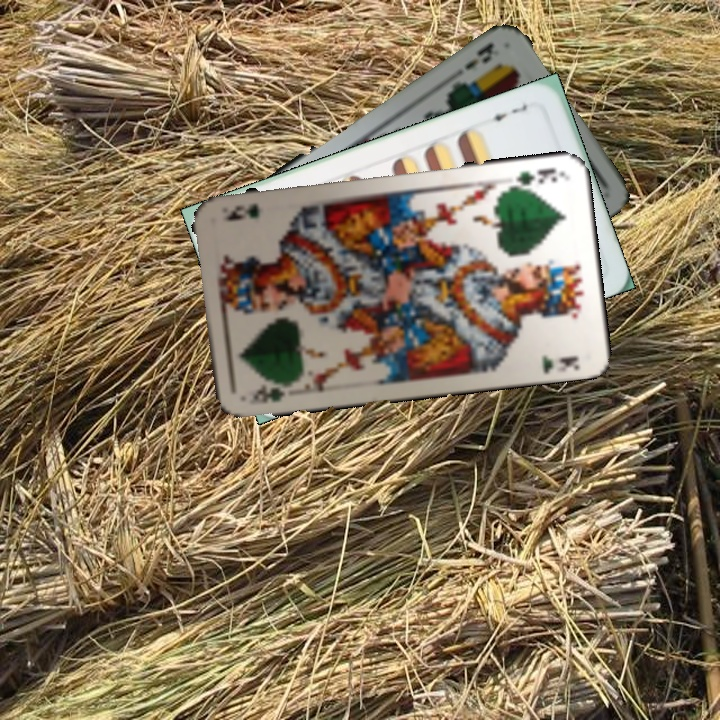E7: (483, 98, 531, 124)
EK: (461, 38, 497, 73)
GK: (505, 164, 563, 192), (244, 378, 296, 408)
